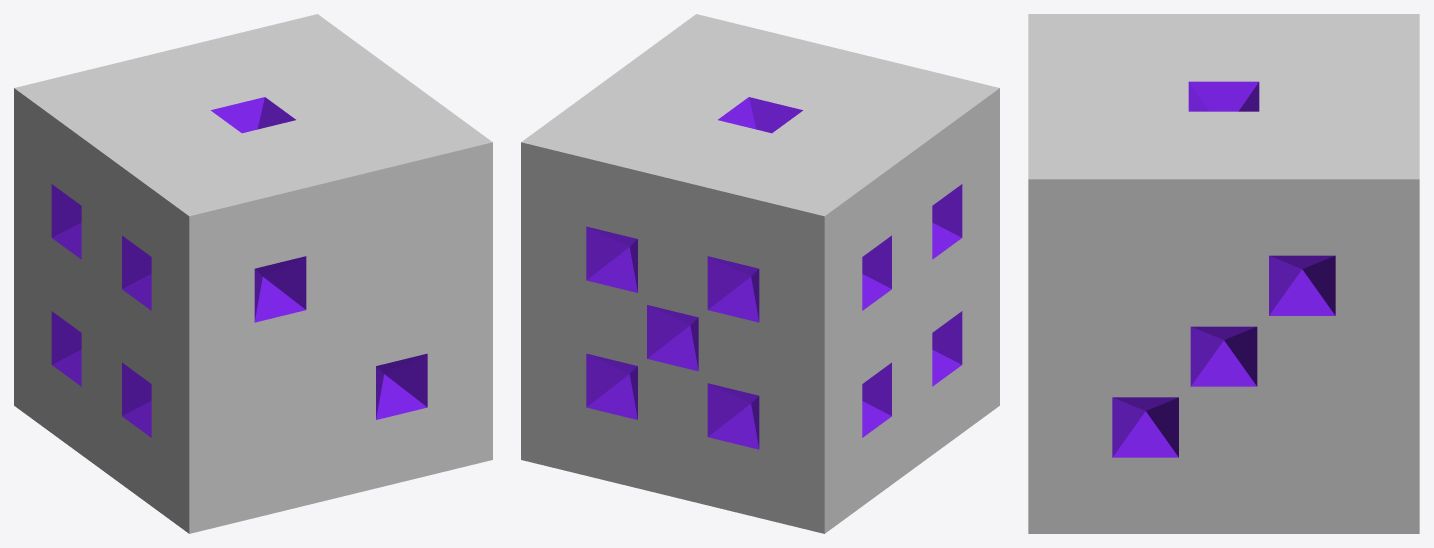
Rendered from Die.glb.
3 views of the same model, side by side, from view 1: azimuth 30°, elevation 25°; view 2: azimuth 150°, elevation 25°; view 3: azimuth 270°, elevation 25° (orthographic). The views are drawn at different scales.
Visible parts, largest first — view 1: Cube; view 2: Cube; view 3: Cube.
Part boxes in pixels (<box>): Cube: <box>14,14,492,533</box>; Cube: <box>521,14,999,533</box>; Cube: <box>1028,14,1419,533</box>.
Bounding box in the file's own units: 2 × 2 × 2.
